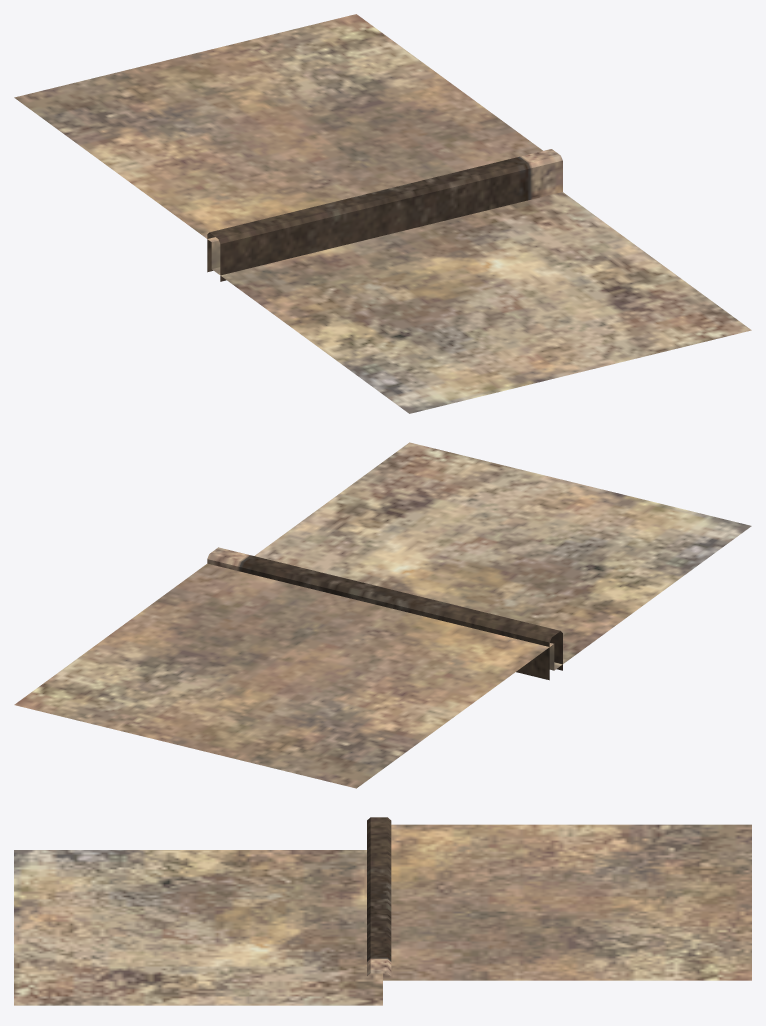
The model's file is RoadState05.fbx.
3 renders of one model, top to bottom at view 1: azimuth 30°, elevation 25°; view 2: azimuth 150°, elevation 25°; view 3: azimuth 270°, elevation 25°, orthographic. The views are drawn at different scales.
Visible parts, largest first — view 1: RoadState01; view 2: RoadState01; view 3: RoadState01.
Boxes of the visible parts, box(x1,y1,x2,y2) form: RoadState01: box(14, 14, 751, 413); RoadState01: box(14, 442, 751, 788); RoadState01: box(14, 817, 751, 1005).
Size of the model in its own units: 200 by 23.07 by 400.
